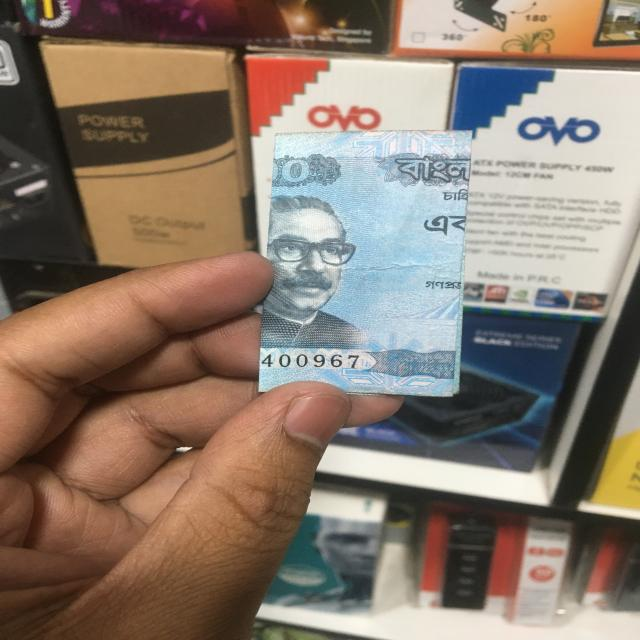Taka: (268, 129, 448, 389)
